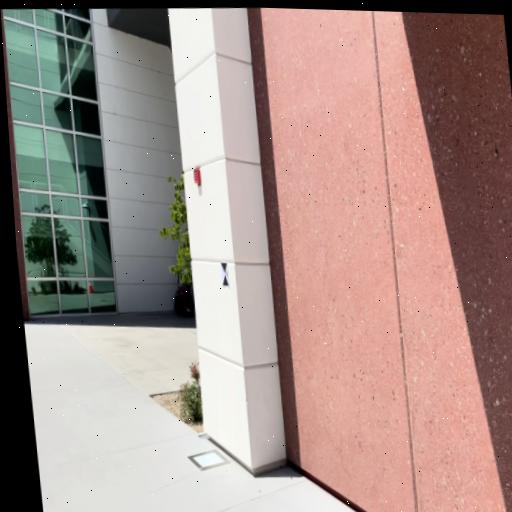target9: (220, 263, 229, 288)
